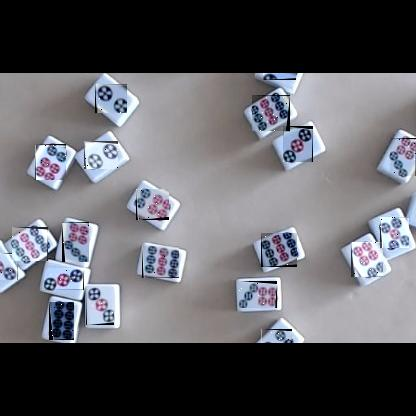2p: (84, 141, 118, 169), (95, 84, 127, 113), (263, 73, 296, 80)
3p: (283, 126, 313, 162), (86, 287, 114, 325), (44, 268, 84, 290), (0, 253, 18, 280)
4p: (261, 329, 292, 343)
5p: (380, 217, 409, 248)
6p: (351, 242, 383, 277), (35, 144, 66, 180), (136, 189, 169, 220)
7p: (62, 222, 89, 262), (239, 281, 277, 308), (390, 138, 416, 176)
8p: (49, 302, 74, 340)
9p: (252, 95, 290, 131), (12, 227, 48, 261), (261, 233, 297, 267), (142, 246, 179, 278)
